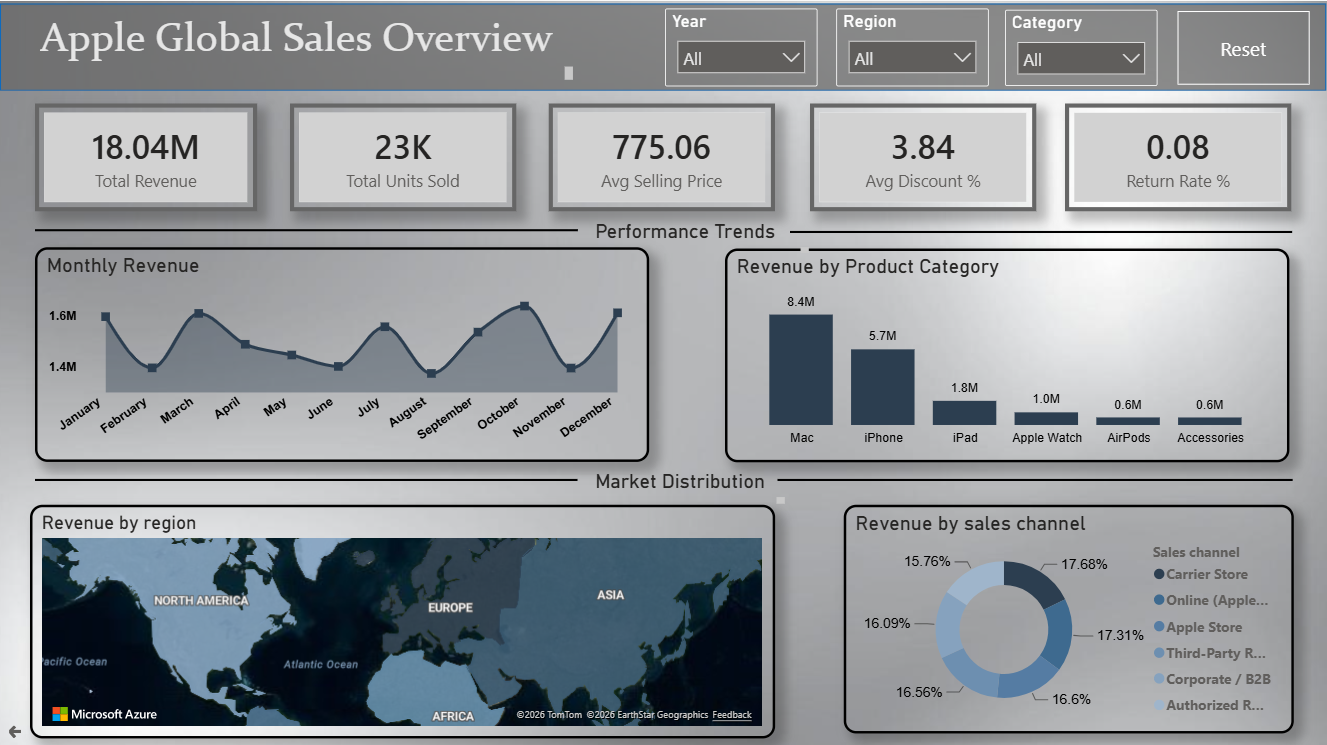

Layout of this report page (visuals, bound fields, positions):
{"tool":"powerbi","page":{"name":"Overview","canvas":[1280,720],"ordinal":1},"visuals":[{"type":"cardVisual","fields":{"Data":["apple_global_sales_dataset.Total Revenue"]},"box":[33.3,98.6,214,104],"z":0},{"type":"textbox","title":"Market Distribution","box":[570.5,453,193.1,37.5],"z":0,"group":"g1"},{"type":"lineChart","title":"Monthly Revenue","fields":{"Y":["apple_global_sales_dataset.Total Revenue"],"Category":["apple_global_sales_dataset.month"]},"box":[33.3,237.5,593.1,206.9],"z":1000},{"type":"shape","box":[751.1,387.7,497.2,150],"z":1000,"group":"g1"},{"type":"cardVisual","fields":{"Data":["apple_global_sales_dataset.Total Units Sold"]},"box":[279.3,98.6,218,104],"z":2000},{"type":"shape","box":[34.4,387.7,523.6,150],"z":2000,"group":"g1"},{"type":"slicer","title":"Year","fields":{"Values":["apple_global_sales_dataset.year"]},"box":[641.7,7.4,147.2,74.8],"z":3000,"group":"g3"},{"type":"donutChart","title":"Revenue by sales channel","fields":{"Category":["apple_global_sales_dataset.sales_channel"],"Y":["apple_global_sales_dataset.Total Revenue"]},"box":[813.9,486.1,434.7,220.8],"z":3000},{"type":"cardVisual","fields":{"Data":["apple_global_sales_dataset.Avg Selling Price"]},"box":[529.3,98.6,218,104],"z":4000},{"type":"slicer","title":"Region","fields":{"Values":["apple_global_sales_dataset.region"]},"box":[807.3,7.4,147.2,74.8],"z":5000,"group":"g3"},{"type":"columnChart","title":"Revenue by Product Category","fields":{"Category":["apple_global_sales_dataset.category"],"Y":["apple_global_sales_dataset.Total Revenue"]},"box":[699.4,239.3,544.8,206.1],"z":5000},{"type":"slicer","title":"Category","fields":{"Values":["apple_global_sales_dataset.category"]},"box":[969.3,8.6,147.2,73.6],"z":6000,"group":"g3"},{"type":"cardVisual","fields":{"Data":["apple_global_sales_dataset.Avg Discount %"]},"box":[781.3,98.6,218,104],"z":6000},{"type":"textbox","title":"Performance Trends","box":[570.6,211.1,216,36.8],"z":7000,"group":"g2"},{"type":"azureMap","title":"Revenue by region","fields":{"Category":["apple_global_sales_dataset.region"]},"box":[29.4,485.9,719,225.8],"z":7000},{"type":"cardVisual","fields":{"Data":["apple_global_sales_dataset.Return Rate %"]},"box":[1027.3,98.6,218,104],"z":8000},{"type":"shape","box":[34.4,193.9,523.9,54],"z":8000,"group":"g2"},{"type":"shape","box":[0,2.9,1280,84.3],"z":9000},{"type":"shape","box":[763.2,202.5,484.7,40.5],"z":9000,"group":"g2"},{"type":"textbox","title":"Apple Global Sales Overview","box":[34.4,9.8,523.9,71.2],"z":10000},{"type":"group","id":"g1","title":"Group 2","box":[34.4,387.7,1213.5,149.7],"z":11000},{"type":"group","id":"g2","title":"Group 4","box":[34.4,193.9,1213.5,54],"z":12000},{"type":"actionButton","box":[1136.2,9.8,127.6,71.2],"z":13000},{"type":"group","id":"g3","title":"Group 1","box":[641.7,7.4,474.8,74.8],"z":14000},{"type":"actionButton","box":[0,691.4,32.9,28.6],"z":15000}]}

Visuals, with their boxes in screenshot pixels (x1, y1, x2, y2), scaled from the page's 1280x720 canvas onto the 1327x745 screenshot:
cardVisual - apple_global_sales_dataset.Total Revenue: [left=35, top=102, right=256, bottom=210]
"Market Distribution" textbox: [left=591, top=469, right=792, bottom=508]
"Monthly Revenue" lineChart: [left=35, top=246, right=649, bottom=460]
shape: [left=779, top=401, right=1294, bottom=556]
cardVisual - apple_global_sales_dataset.Total Units Sold: [left=290, top=102, right=516, bottom=210]
shape: [left=36, top=401, right=578, bottom=556]
"Year" slicer: [left=665, top=8, right=818, bottom=85]
"Revenue by sales channel" donutChart: [left=844, top=503, right=1294, bottom=731]
cardVisual - apple_global_sales_dataset.Avg Selling Price: [left=549, top=102, right=775, bottom=210]
"Region" slicer: [left=837, top=8, right=990, bottom=85]
"Revenue by Product Category" columnChart: [left=725, top=248, right=1290, bottom=461]
"Category" slicer: [left=1005, top=9, right=1157, bottom=85]
cardVisual - apple_global_sales_dataset.Avg Discount %: [left=810, top=102, right=1036, bottom=210]
"Performance Trends" textbox: [left=592, top=218, right=815, bottom=257]
"Revenue by region" azureMap: [left=30, top=503, right=776, bottom=736]
cardVisual - apple_global_sales_dataset.Return Rate %: [left=1065, top=102, right=1291, bottom=210]
shape: [left=36, top=201, right=579, bottom=257]
shape: [left=0, top=3, right=1326, bottom=90]
shape: [left=791, top=210, right=1294, bottom=251]
"Apple Global Sales Overview" textbox: [left=36, top=10, right=579, bottom=84]
"Group 2" group: [left=36, top=401, right=1294, bottom=556]
"Group 4" group: [left=36, top=201, right=1294, bottom=257]
actionButton: [left=1178, top=10, right=1310, bottom=84]
"Group 1" group: [left=665, top=8, right=1157, bottom=85]
actionButton: [left=0, top=715, right=34, bottom=744]
